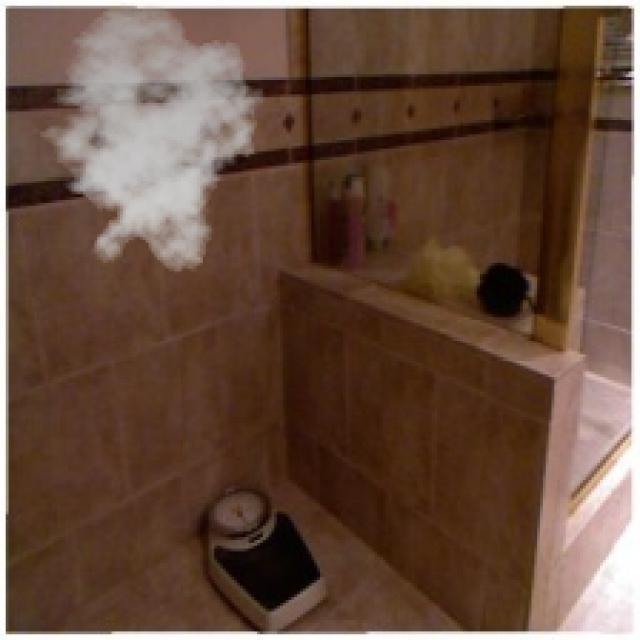smoke: (28, 3, 272, 274)
